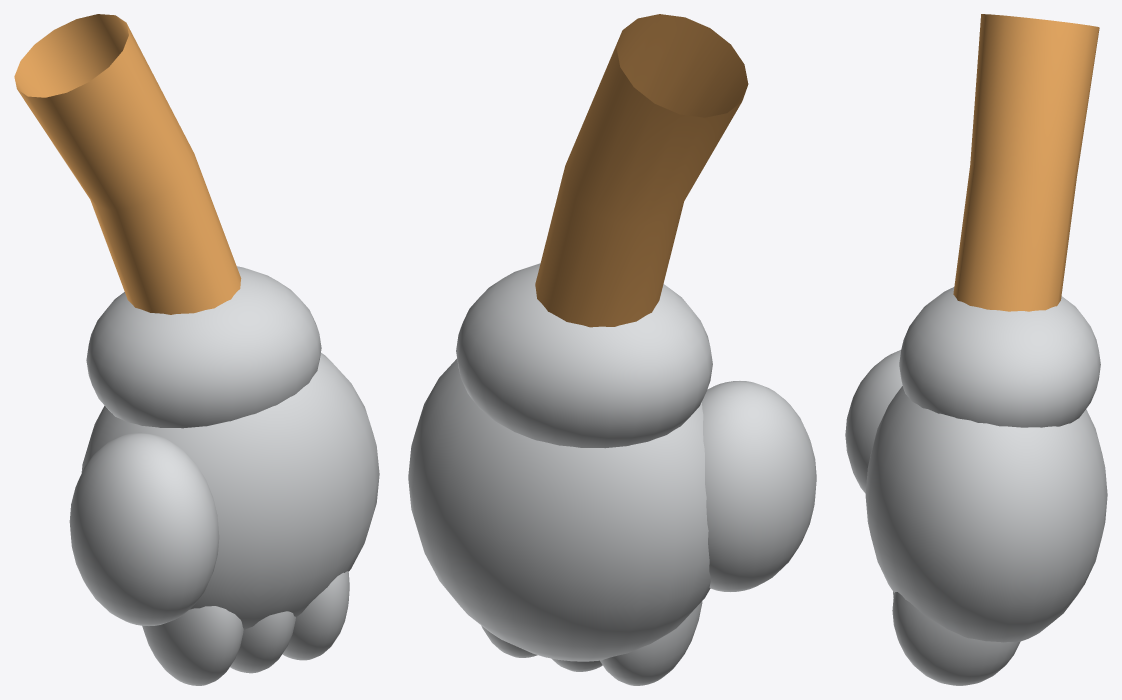
The model's file is sonic-arm-r.obj.
3 renders of one model, left to right at view 1: azimuth 30°, elevation 25°; view 2: azimuth 150°, elevation 25°; view 3: azimuth 270°, elevation 25°, orthographic. The views are drawn at different scales.
Visible parts, largest first — view 1: glove, arm; view 2: glove, arm; view 3: glove, arm.
Boxes of the visible parts, left/top/right/bottom form: glove: left=69, top=353, right=379, bottom=685; arm: left=14, top=14, right=321, bottom=428; glove: left=408, top=359, right=816, bottom=685; arm: left=456, top=14, right=748, bottom=448; glove: left=845, top=350, right=1107, bottom=685; arm: left=899, top=14, right=1100, bottom=427.
Bounding box in the file's own units: 0.5101 × 0.9912 × 0.39.
